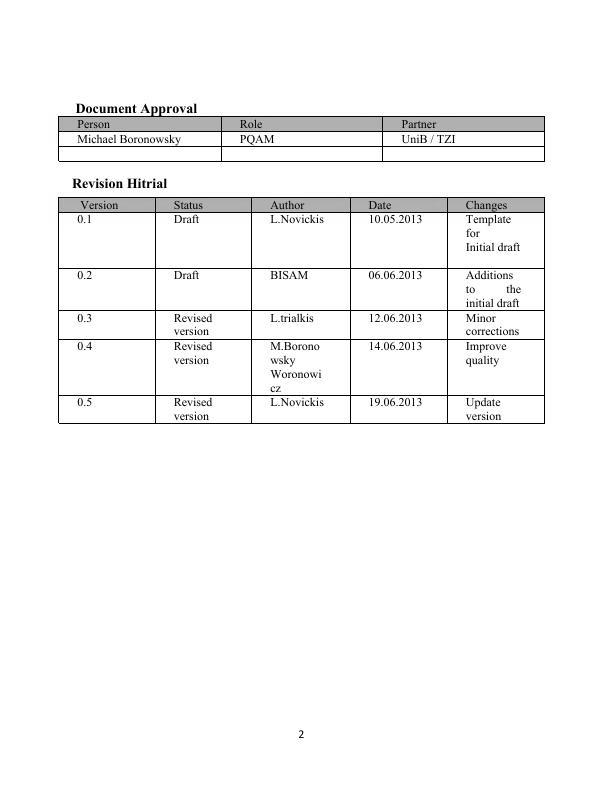table: (56, 196, 548, 426), (57, 115, 547, 163)
text: (72, 101, 200, 115), (70, 176, 170, 191)
